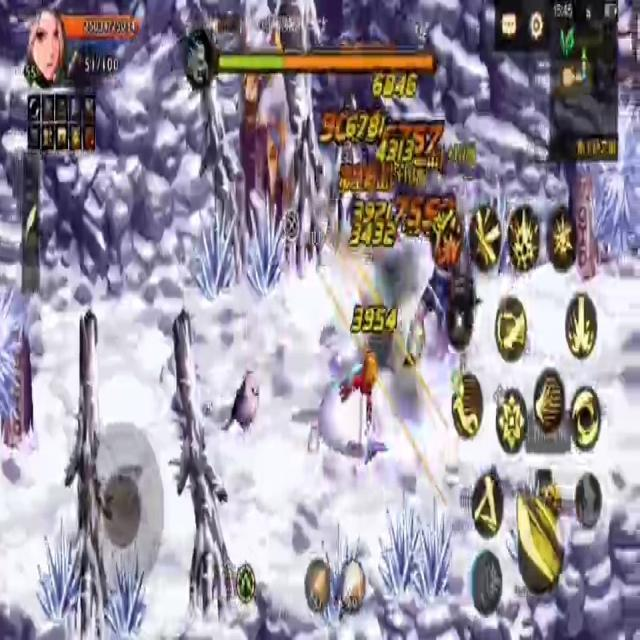player: (305, 347, 383, 469)
